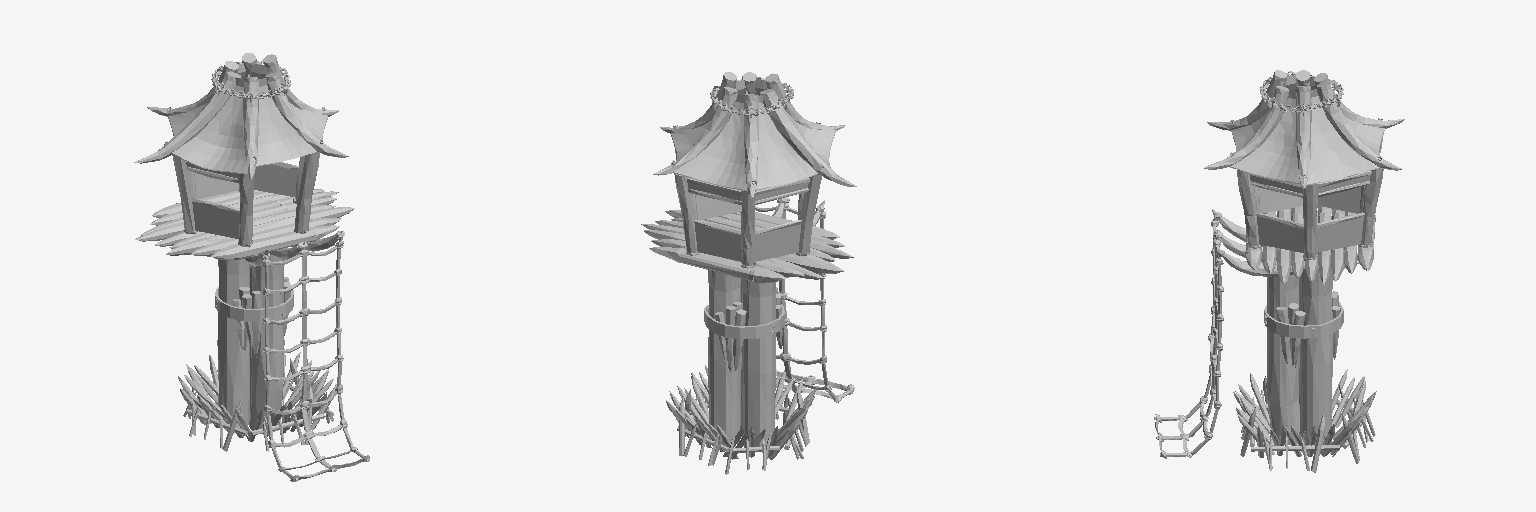
The model's file is WatchTower_LOD2.obj.
3 renders of one model, left to right at view 1: azimuth 30°, elevation 25°; view 2: azimuth 150°, elevation 25°; view 3: azimuth 270°, elevation 25°, orthographic.
Visible parts, largest first — view 1: WatchTowerTrunk, WatchTowerHut, WatchTowerRoof, WatchTowerPlateau, WatchTowerRopeLadder, WatchTowerRoofTusks, WatchTowerSpikes, WatchTowerChains; view 2: WatchTowerTrunk, WatchTowerHut, WatchTowerRoof, WatchTowerRoofTusks, WatchTowerSpikes, WatchTowerPlateau, WatchTowerRopeLadder, WatchTowerChains; view 3: WatchTowerTrunk, WatchTowerHut, WatchTowerRoof, WatchTowerSpikes, WatchTowerRoofTusks, WatchTowerRopeLadder, WatchTowerPlateau, WatchTowerChains.
Part boxes in pixels (left/top/right/bottom): WatchTowerTrunk: left=215, top=255, right=293, bottom=431; WatchTowerHut: left=172, top=152, right=319, bottom=247; WatchTowerRoof: left=168, top=63, right=327, bottom=174; WatchTowerPlateau: left=135, top=189, right=354, bottom=259; WatchTowerRopeLadder: left=244, top=231, right=369, bottom=481; WatchTowerRoofTusks: left=134, top=53, right=348, bottom=178; WatchTowerSpikes: left=178, top=349, right=336, bottom=451; WatchTowerChains: left=211, top=60, right=290, bottom=102; WatchTowerTrunk: left=704, top=270, right=784, bottom=447; WatchTowerHut: left=674, top=146, right=821, bottom=268; WatchTowerRoof: left=671, top=78, right=835, bottom=190; WatchTowerRoofTusks: left=653, top=72, right=856, bottom=198; WatchTowerSpikes: left=666, top=365, right=817, bottom=474; WatchTowerPlateau: left=641, top=210, right=854, bottom=282; WatchTowerRopeLadder: left=755, top=197, right=854, bottom=402; WatchTowerChains: left=710, top=77, right=793, bottom=117; WatchTowerTrunk: left=1264, top=258, right=1343, bottom=444; WatchTowerHut: left=1237, top=134, right=1383, bottom=260; WatchTowerRoof: left=1230, top=74, right=1384, bottom=185; WatchTowerSpikes: left=1233, top=369, right=1376, bottom=472; WatchTowerRoofTusks: left=1204, top=70, right=1404, bottom=188; WatchTowerRopeLadder: left=1154, top=209, right=1305, bottom=458; WatchTowerPlateau: left=1245, top=206, right=1375, bottom=284; WatchTowerChains: left=1260, top=71, right=1343, bottom=116.
Size of the model in its own units: 6.87 by 11.48 by 7.09.